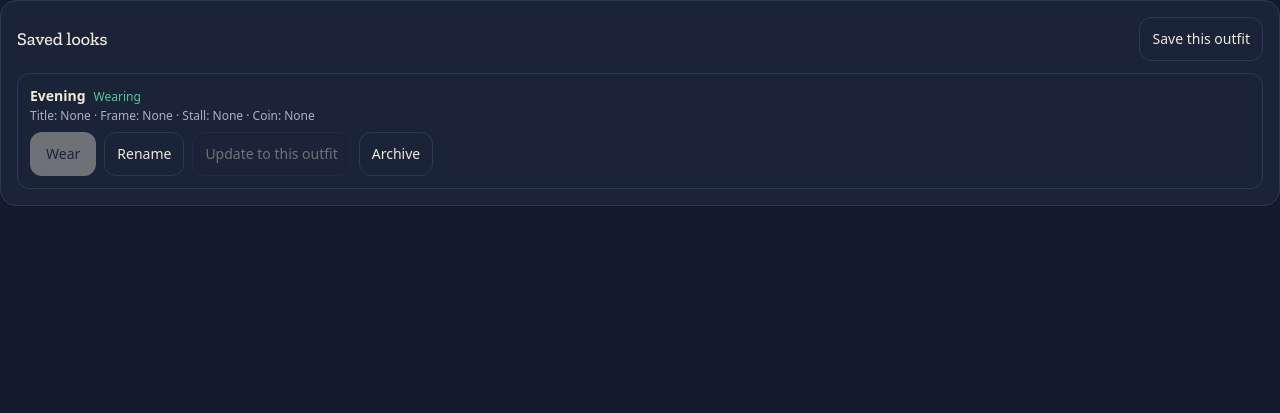
it: saved look panel › saves the outfit you're wearing as a named look without changing it
Expected: the element "Evening" is shown, x1=17 y1=73 x2=1263 y2=189
Click the button "Save this outfit". click: (1201, 39)
box: x1=1140 y1=17 x2=1263 y2=61
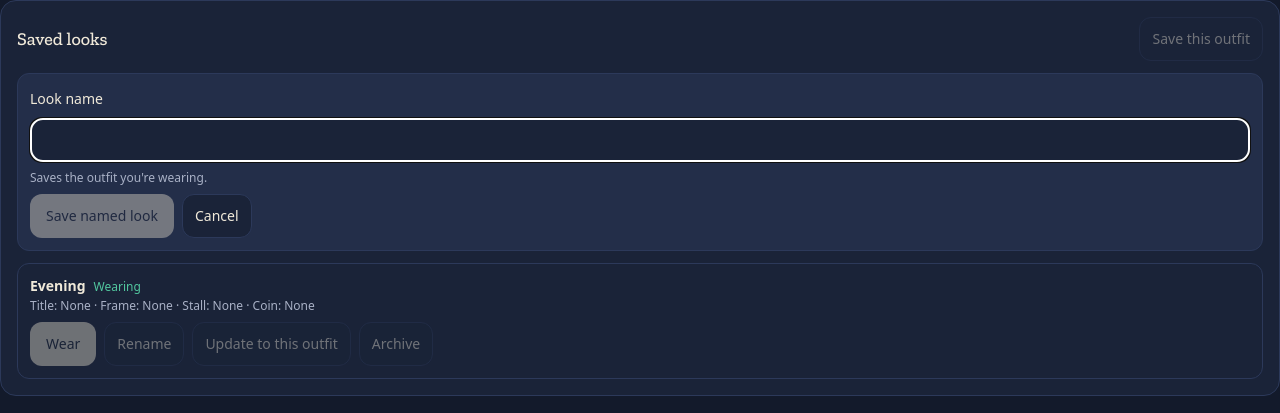
Type "  Weekend  " into the field labelled "Look name". click: (640, 140)
box: x1=30 y1=118 x2=1250 y2=162
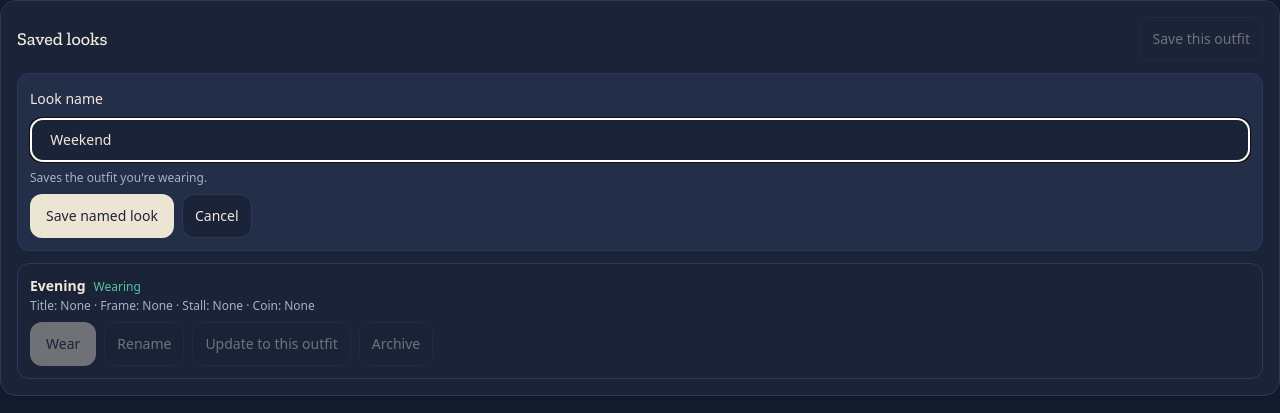
Click the button "Save named look". click: (102, 216)
box: x1=30 y1=194 x2=174 y2=238
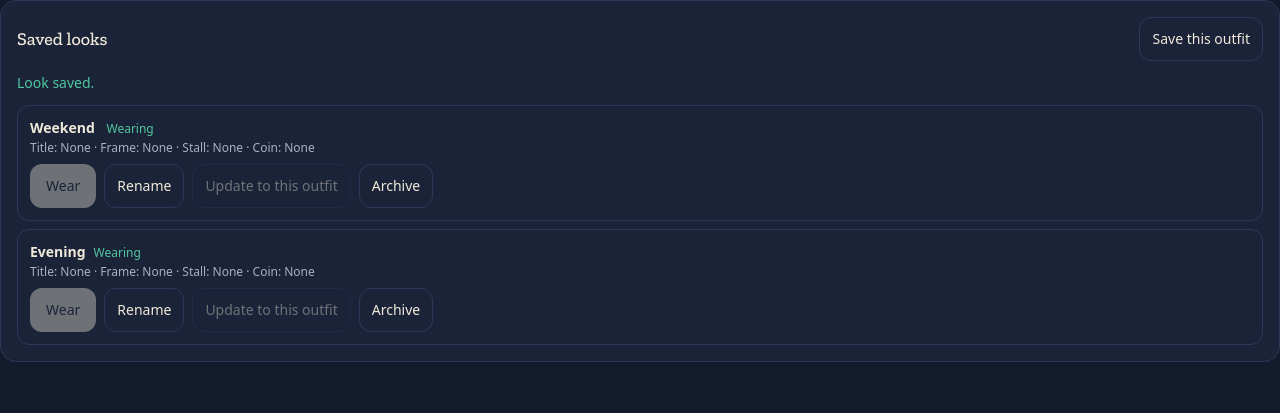
Now the text "Look saved." is shown, box x1=17 y1=73 x2=94 y2=92
